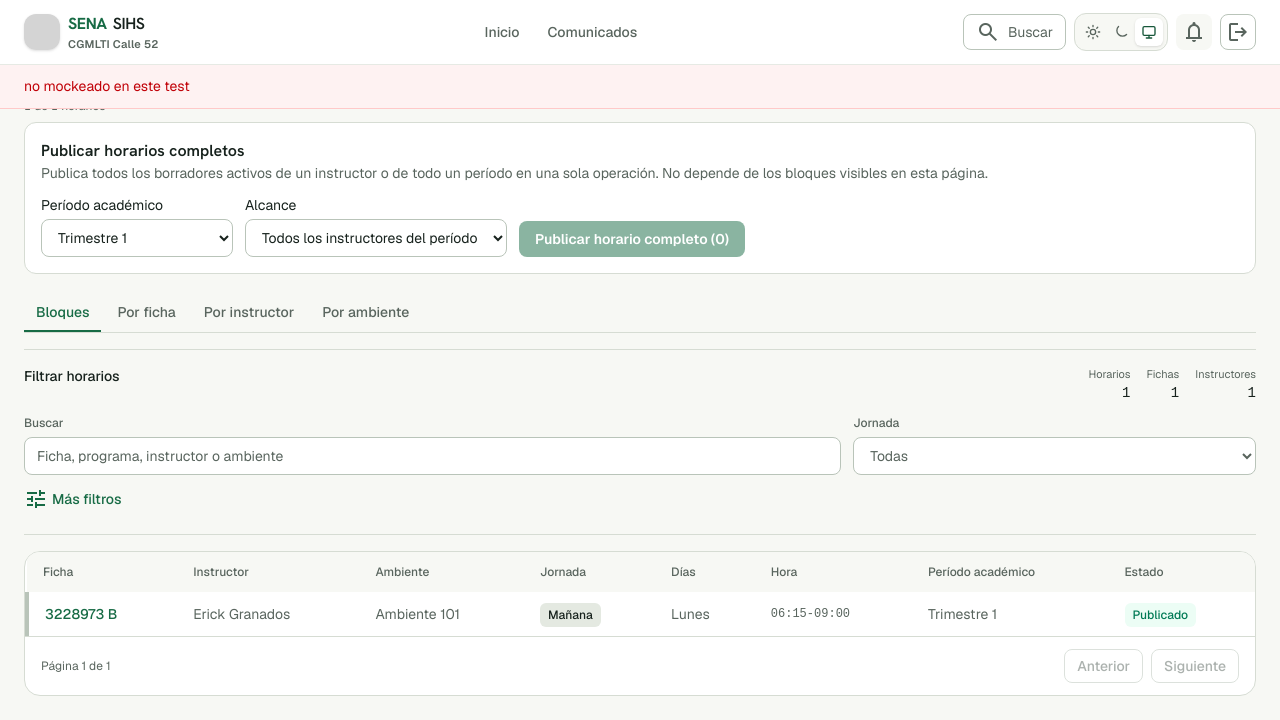
Test case: HorariosCompletos › cierra el drawer con X y con Escape
(page scrolled)
Click the button "3228973 B" at (81, 614), box [45, 604, 117, 624]
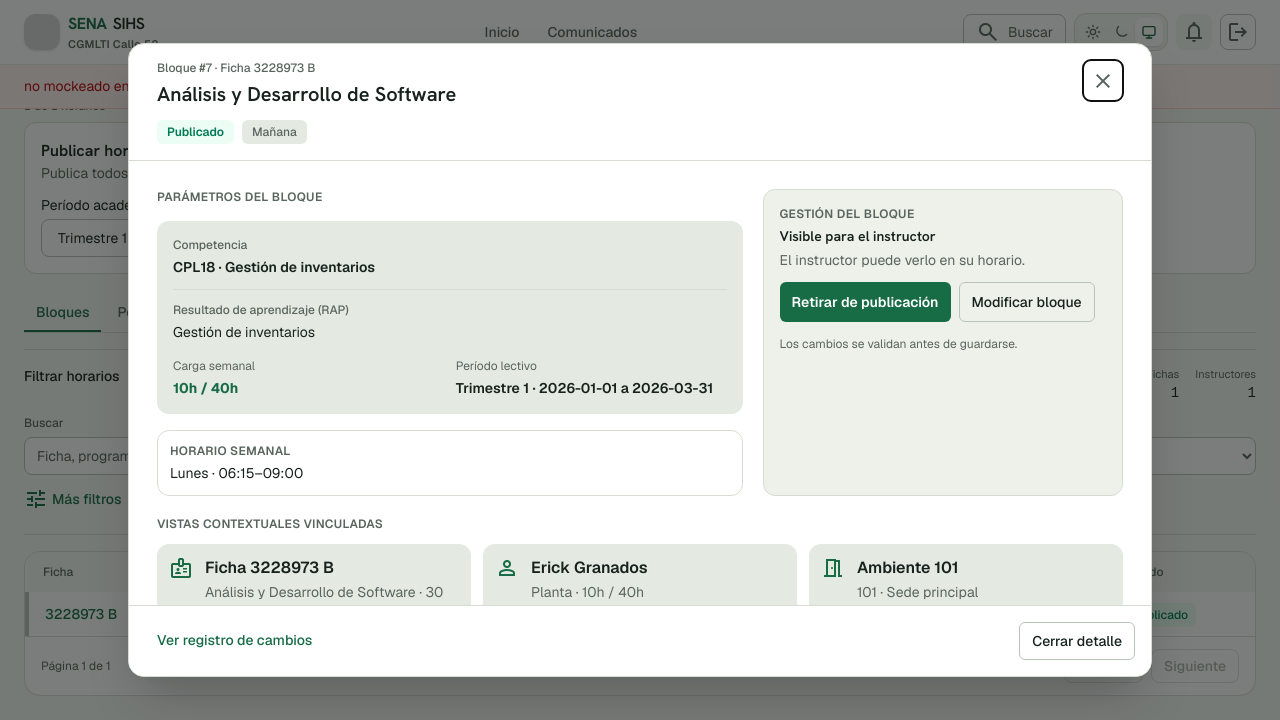
Expected: the dialog named "Horario #7" is shown
Click the button named "Cerrar" at (1103, 81), box [1083, 60, 1123, 101]
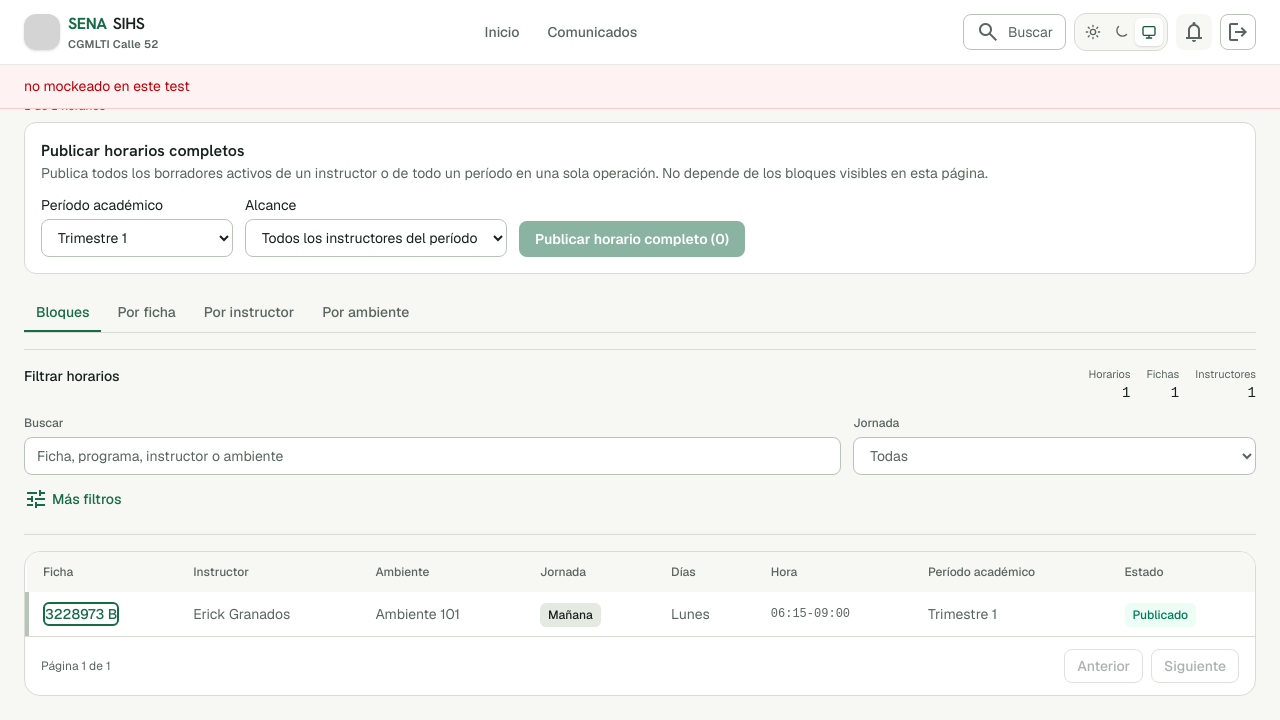
Expected: the dialog is gone
Click the button "3228973 B" at (81, 614), box [45, 604, 117, 624]
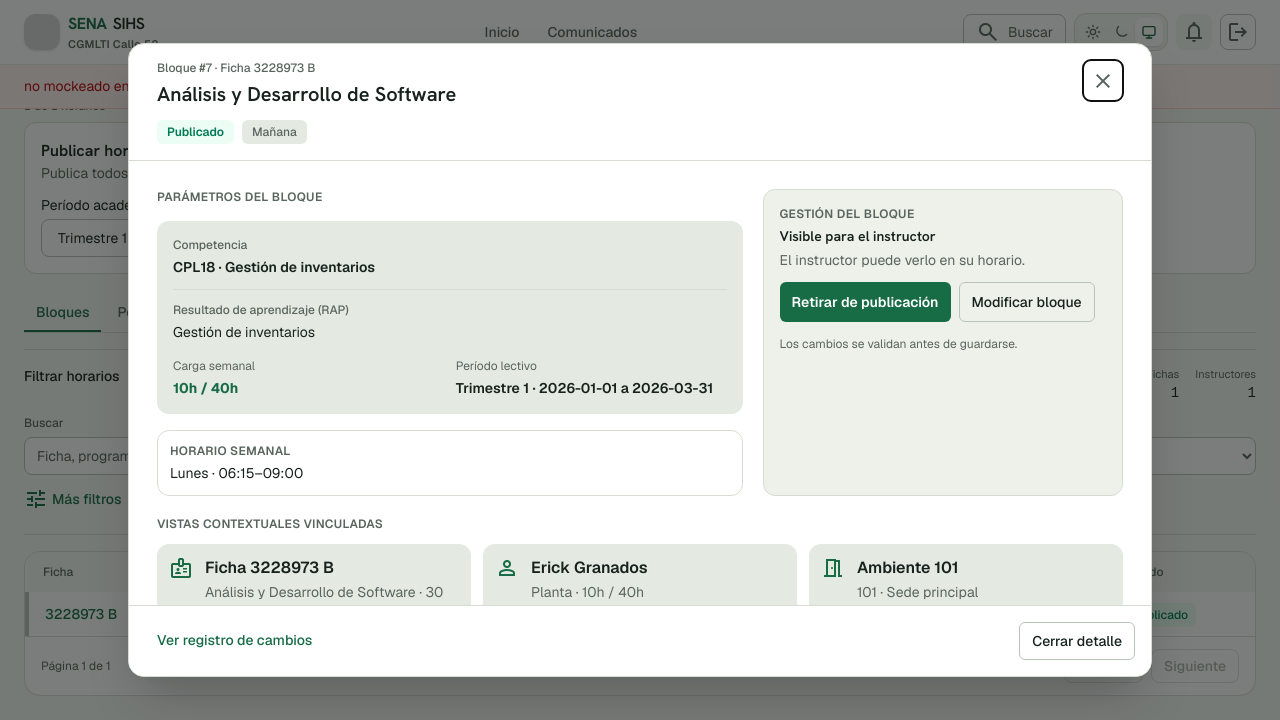
Press Escape
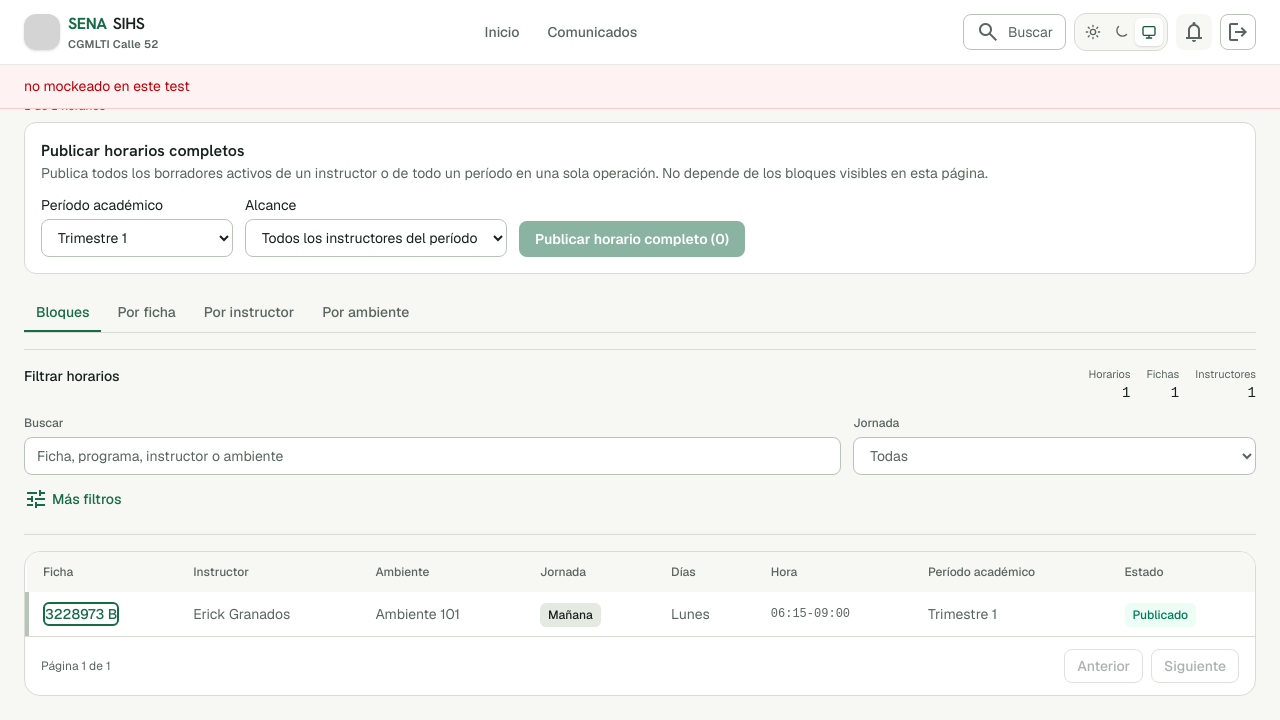
Expected: the dialog is gone
Click the button "3228973 B" at (81, 614), box [45, 604, 117, 624]
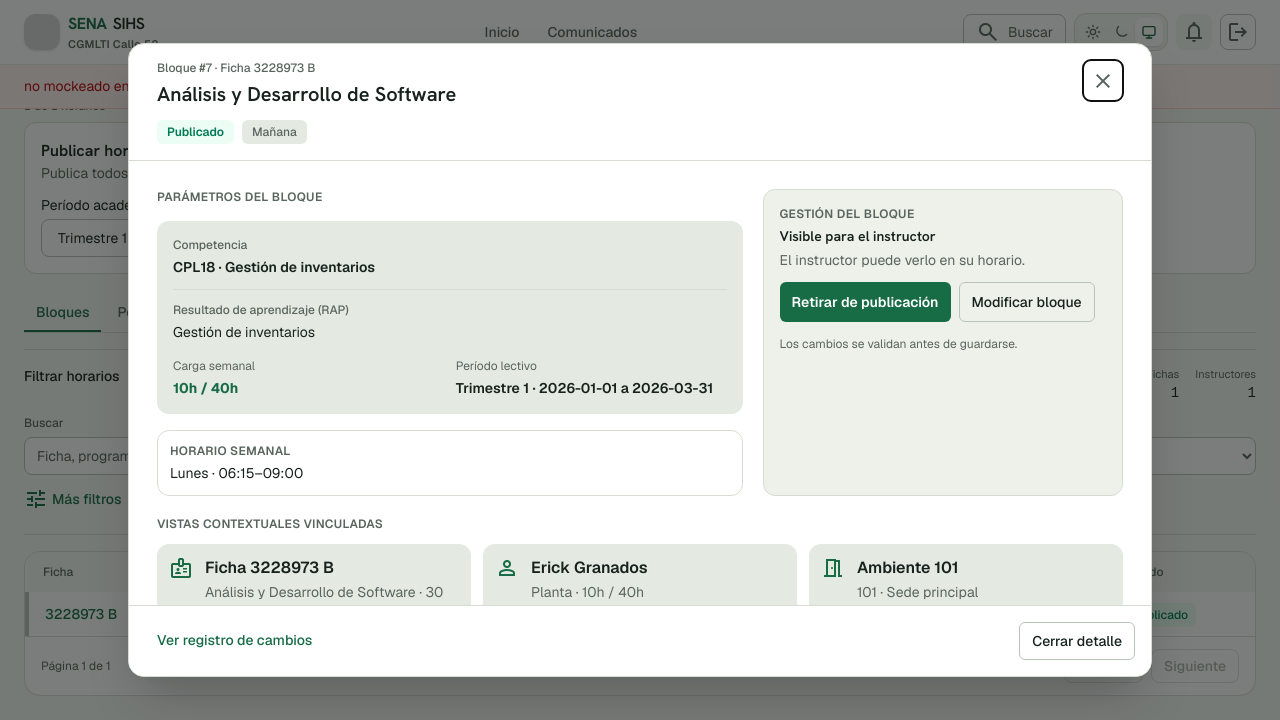
Click the element that starts with "Bloque #" at (77, 360), box [0, 0, 1279, 719]
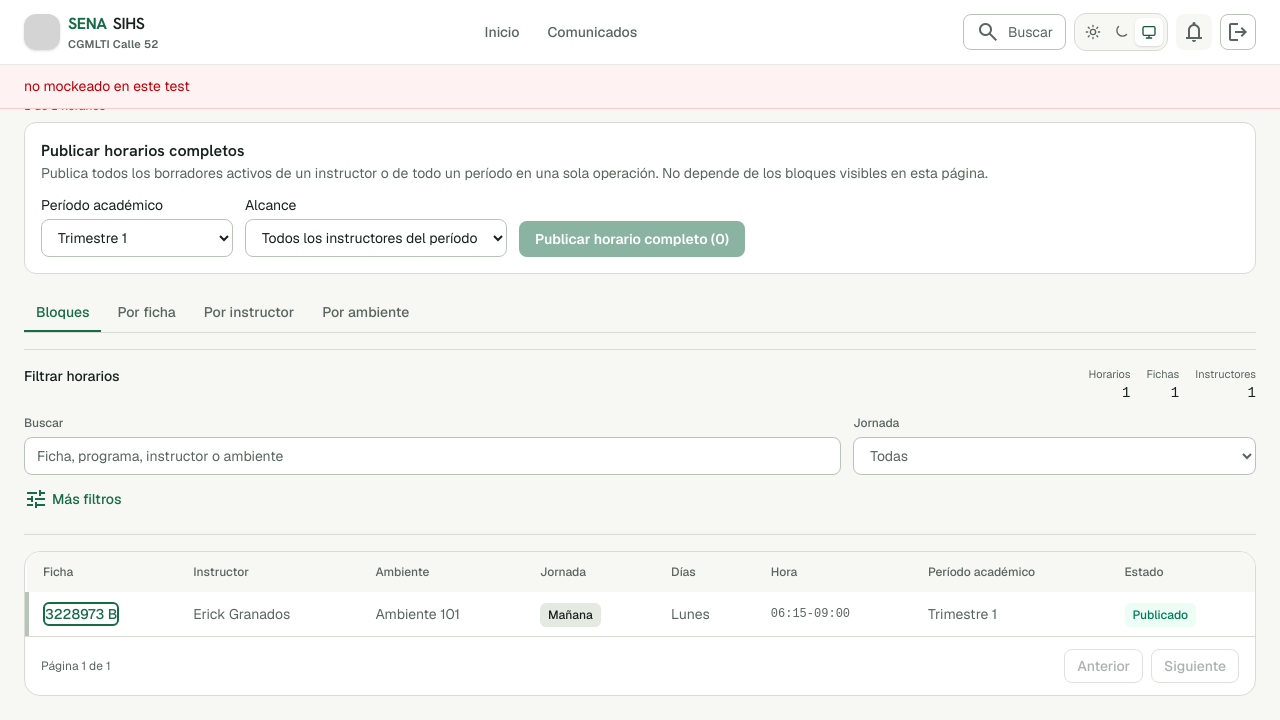
Expected: the dialog is gone
